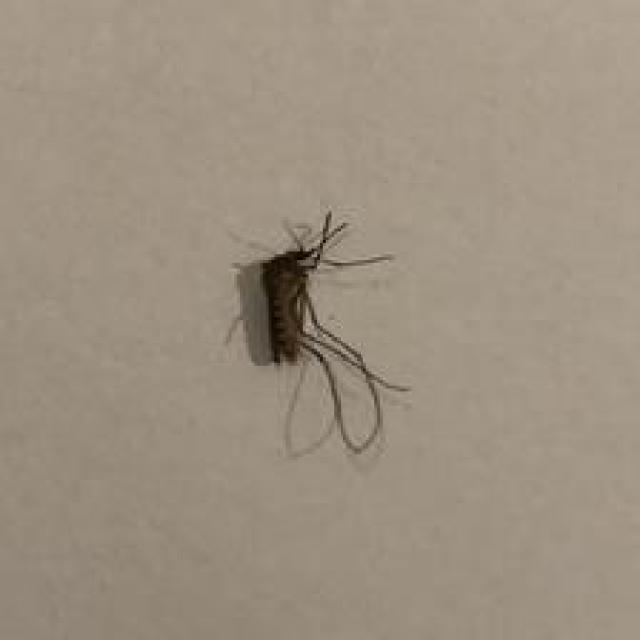Culex: (221, 209, 413, 460)
